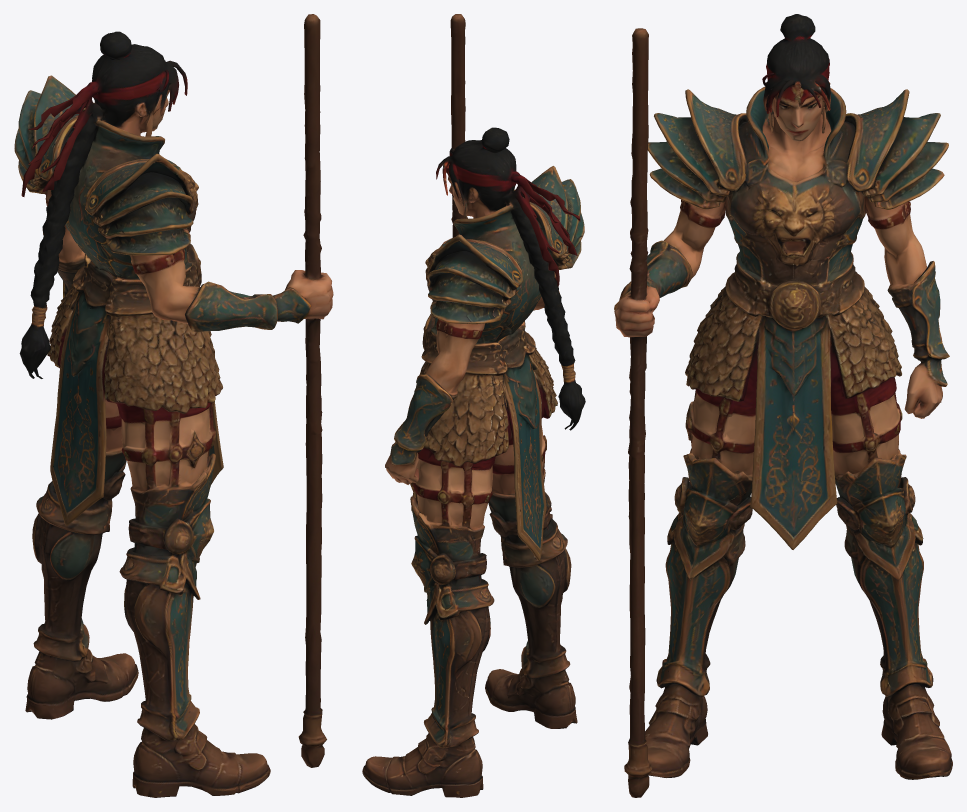
Rendered from vanguardalt_T5-tripo.glb.
3 views of the same model, side by side, from view 1: azimuth 30°, elevation 25°; view 2: azimuth 150°, elevation 25°; view 3: azimuth 270°, elevation 25° (orthographic). The views are drawn at different scales.
Visible parts, largest first — view 1: tripo_node_4b0eb90e-fdf5-4e34-aac0-19cbaa7fee55; view 2: tripo_node_4b0eb90e-fdf5-4e34-aac0-19cbaa7fee55; view 3: tripo_node_4b0eb90e-fdf5-4e34-aac0-19cbaa7fee55.
Part boxes in pixels (x1,y1,x2,y2): tripo_node_4b0eb90e-fdf5-4e34-aac0-19cbaa7fee55: (14,14,333,797); tripo_node_4b0eb90e-fdf5-4e34-aac0-19cbaa7fee55: (362,14,585,797); tripo_node_4b0eb90e-fdf5-4e34-aac0-19cbaa7fee55: (614,14,952,797).
Bounding box in the file's own units: 0.3255 × 1 × 0.3953.
1 material, 1 textured.
